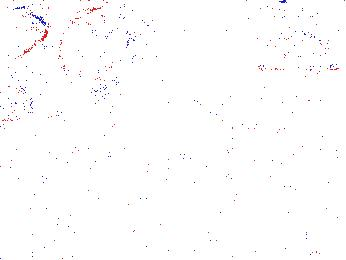moon jellyfish: (59, 8, 128, 93), (253, 33, 342, 72), (1, 8, 50, 71)
